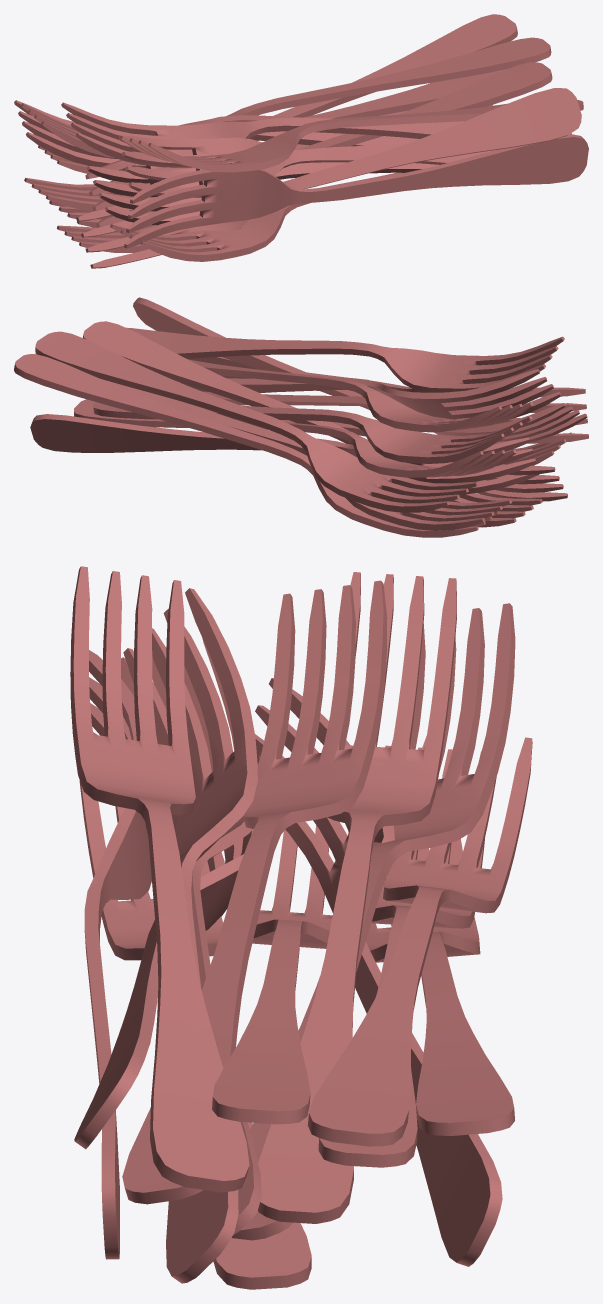
The model's file is SM_SilverwarePile_01c.FBX.
3 views of the same model, one above another, from view 1: azimuth 30°, elevation 25°; view 2: azimuth 150°, elevation 25°; view 3: azimuth 270°, elevation 25° (orthographic). The views are drawn at different scales.
Visible parts, largest first — view 1: SM_SilverwarePile_01c_LOD0; view 2: SM_SilverwarePile_01c_LOD0; view 3: SM_SilverwarePile_01c_LOD0.
Boxes of the visible parts, x1,y1,x2,y2 form: SM_SilverwarePile_01c_LOD0: (14,14,588,268); SM_SilverwarePile_01c_LOD0: (14,297,588,537); SM_SilverwarePile_01c_LOD0: (70,566,532,1289).
Size of what is drawn, in the model's own units: 23.5 by 6.79 by 9.56.
